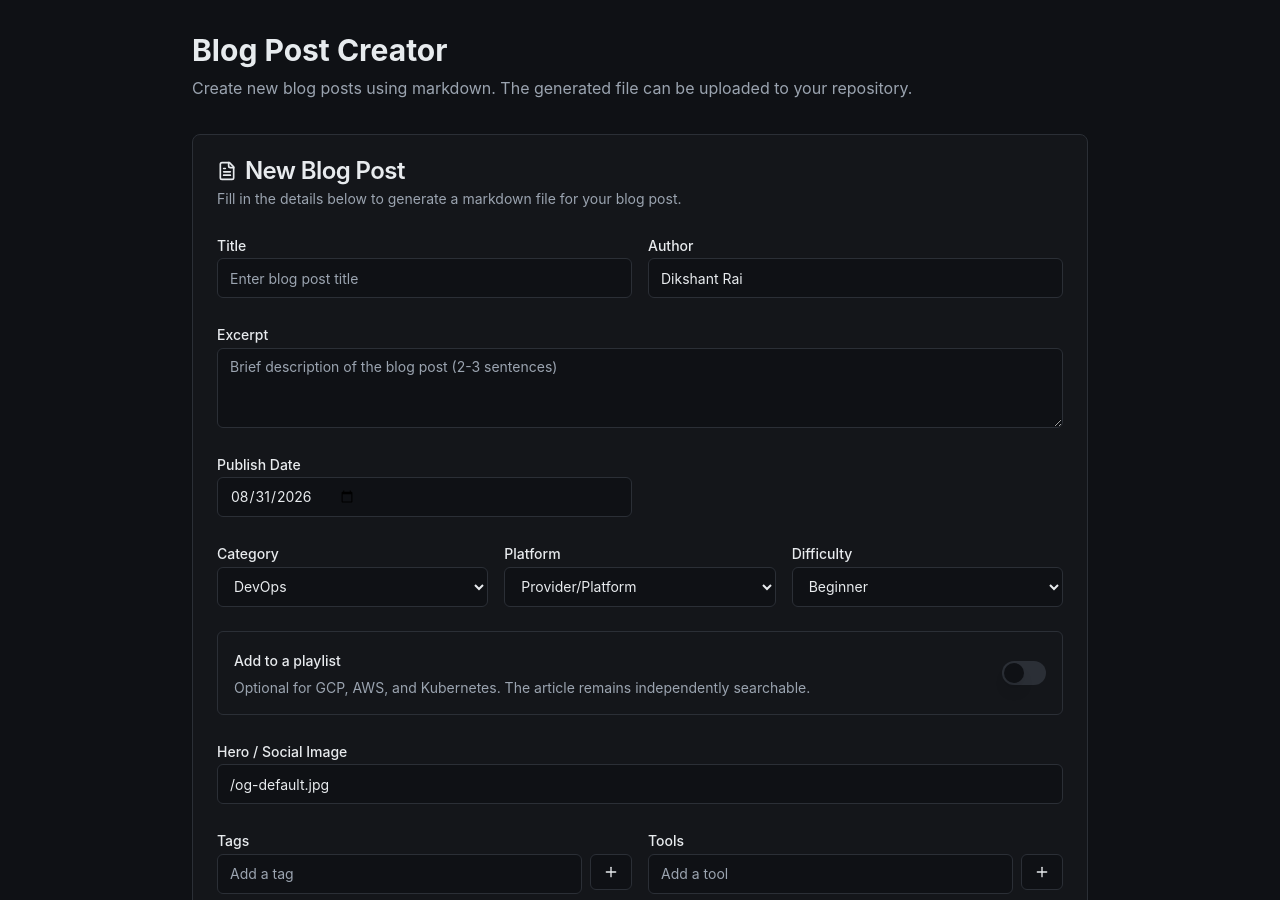
Test: Admin Page › generate button state › is enabled when title and content are filled
In the field labelled "Title": (424, 278) [217,258,632,298], type "Test Title"
(page scrolled)
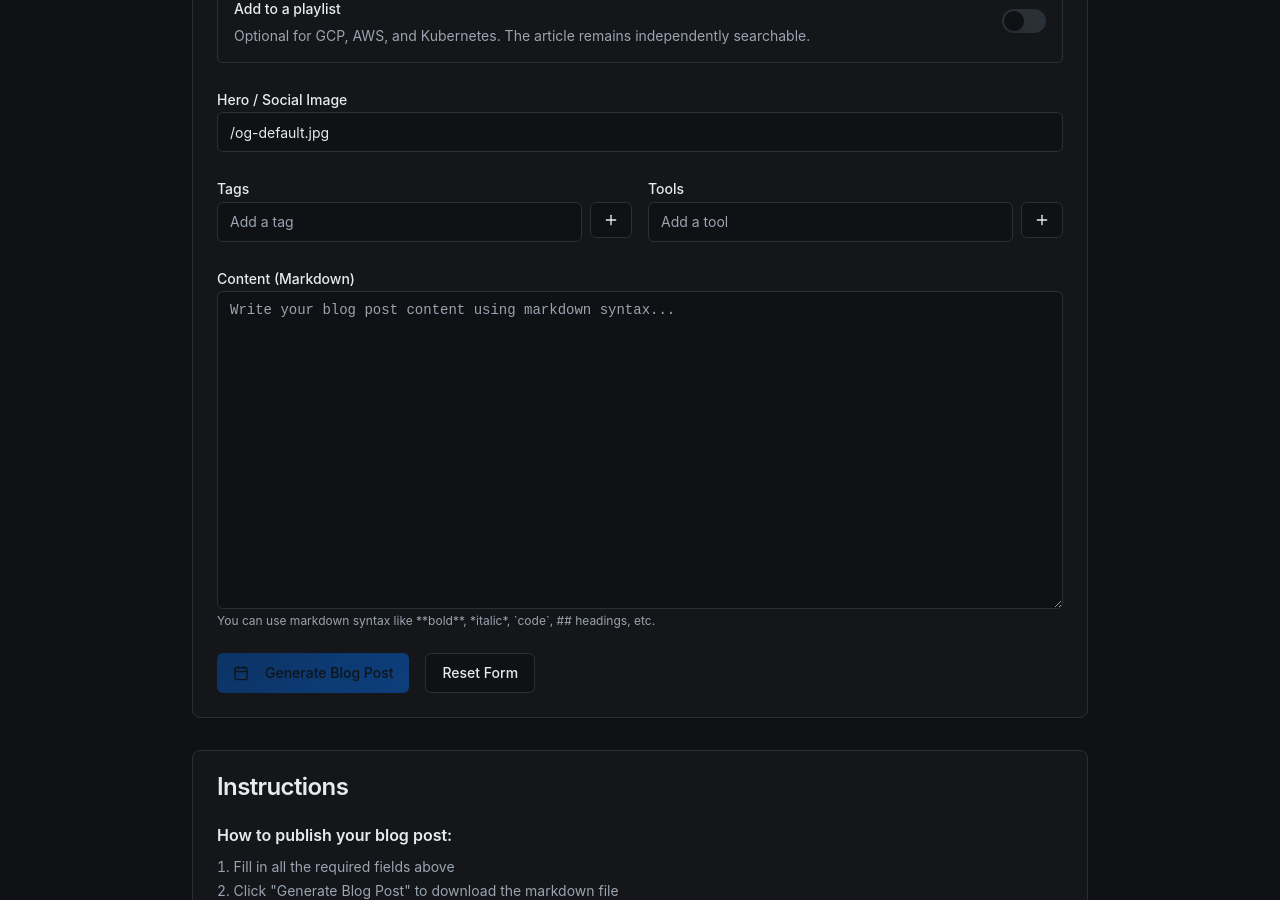
In the text box labelled "Content (Markdown)": (640, 450) [217,291,1063,609], type "Some content"
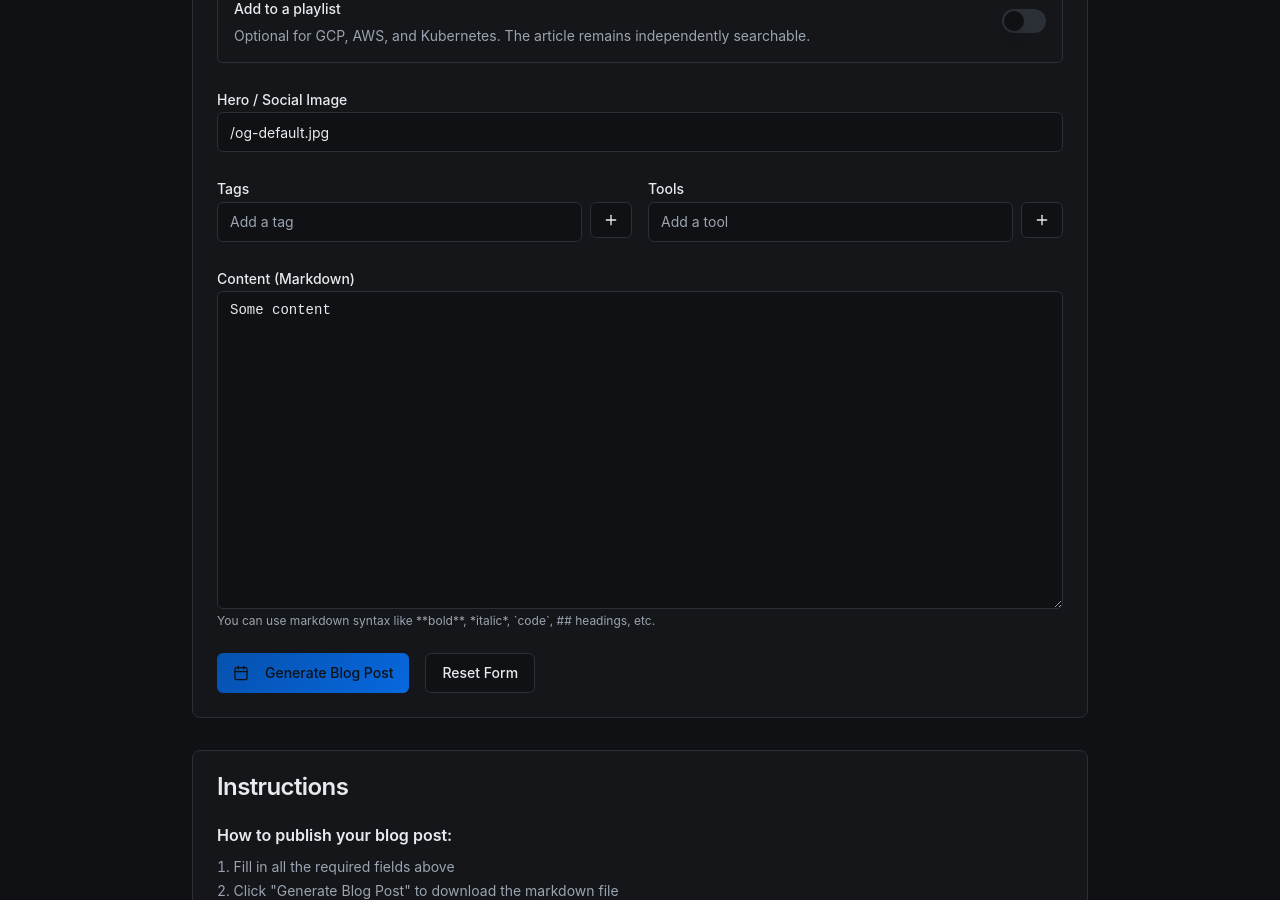
Expected: the button "Generate Blog Post" is enabled, [217,653,410,693]
